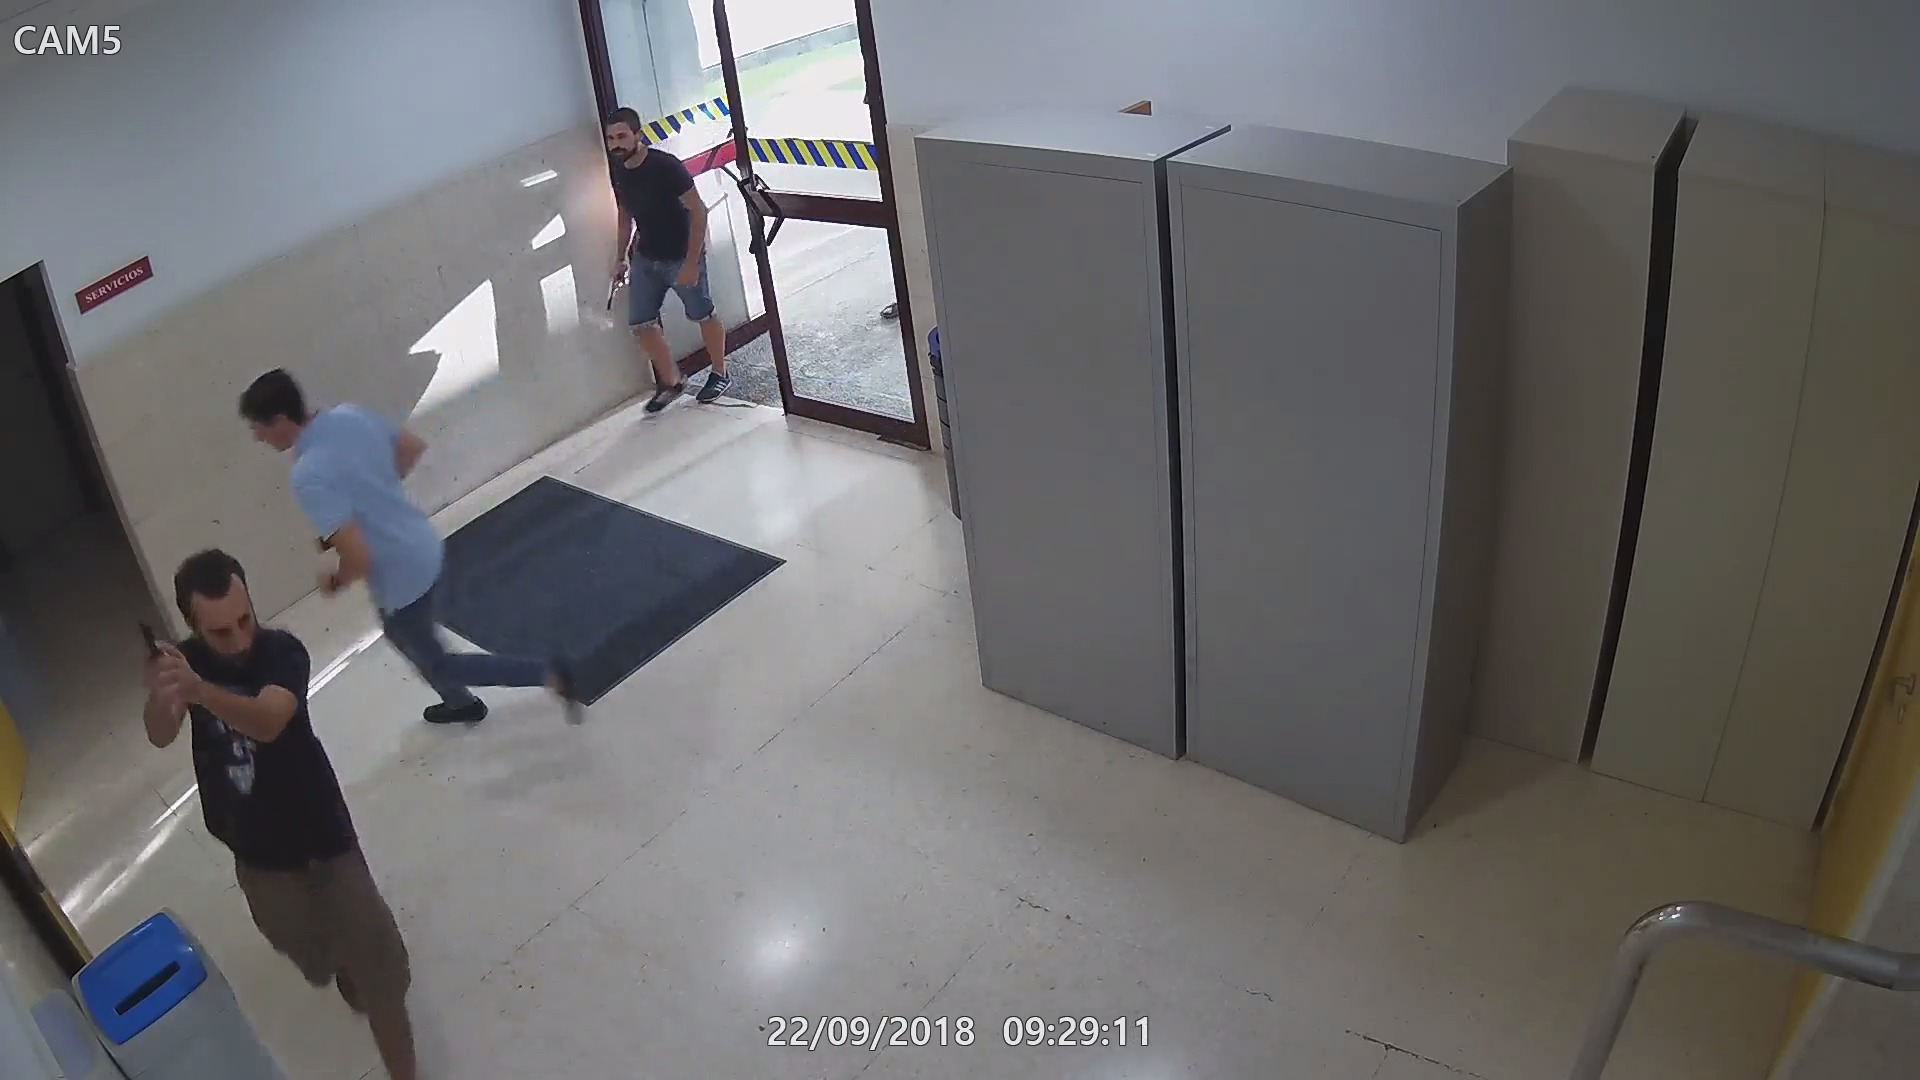Handgun: (133, 613, 190, 703), (597, 255, 636, 316)
